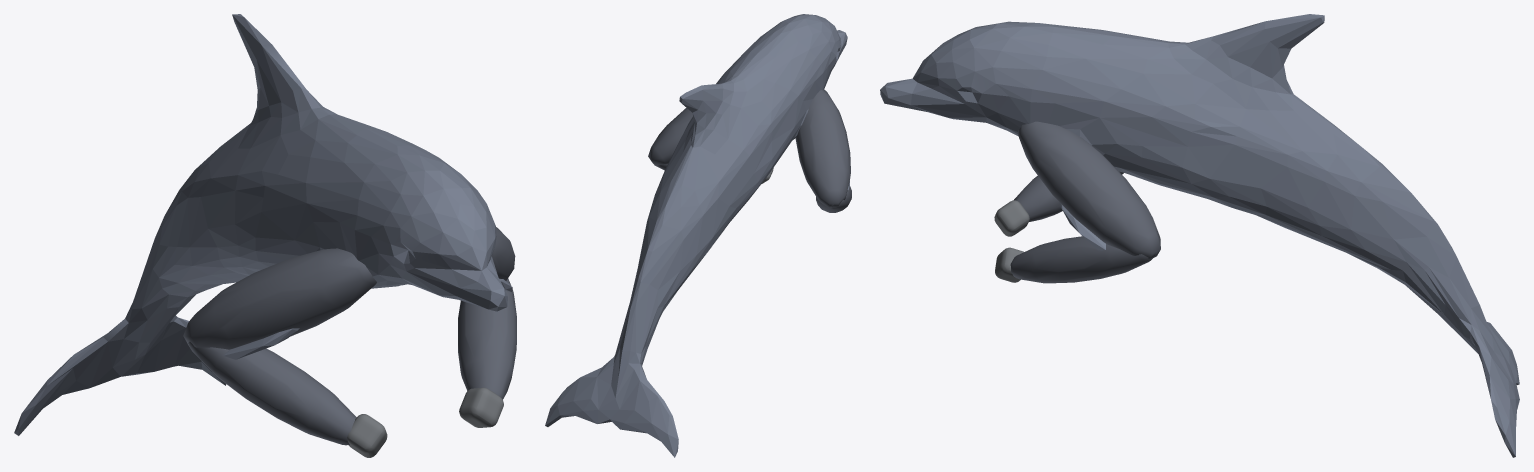
The model's file is dolphin2.glb.
3 views of the same model, side by side, from view 1: azimuth 30°, elevation 25°; view 2: azimuth 150°, elevation 25°; view 3: azimuth 270°, elevation 25° (orthographic). The views are drawn at different scales.
Visible parts, largest first — view 1: fistL.001; view 2: fistL.001; view 3: fistL.001.
Boxes of the visible parts, x1,y1,x2,y2 form: fistL.001: [14, 14, 516, 457]; fistL.001: [545, 14, 851, 457]; fistL.001: [880, 14, 1519, 457].
Bounding box in the file's own units: 1.37 × 2.01 × 2.89.
